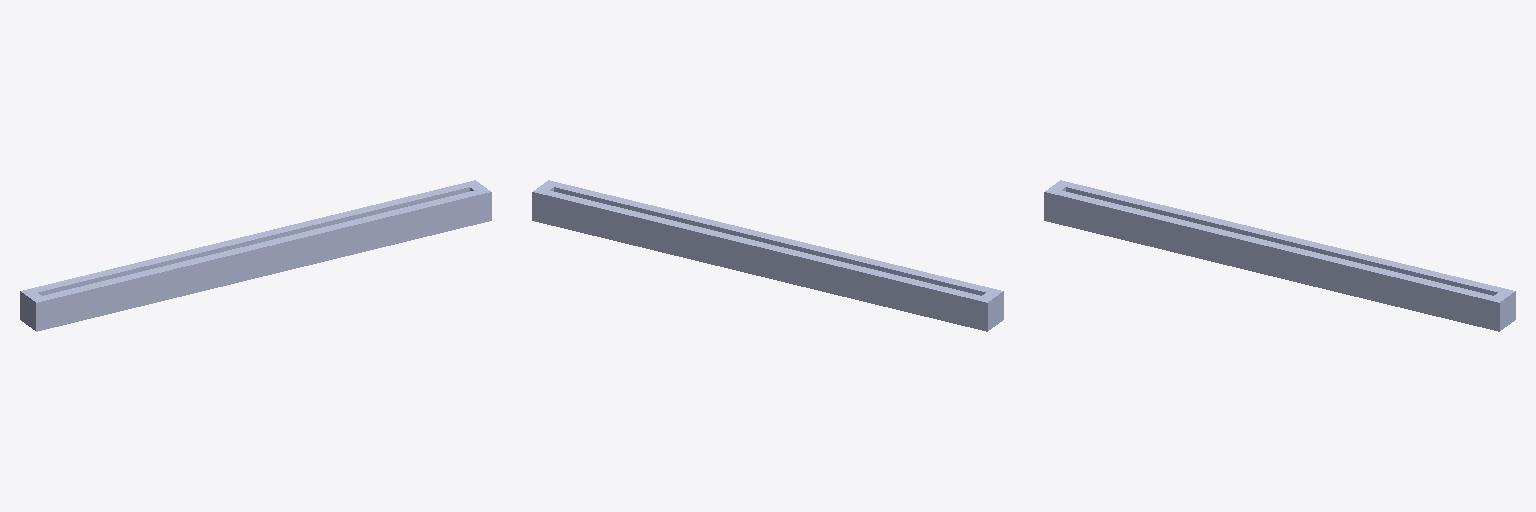
The robot description file, URDF, robot "gantry":
<?xml version="1.0" encoding="utf-8"?>
<!-- This URDF was automatically created by SolidWorks to URDF Exporter! Originally created by [author] ([email redacted]) 
     Commit Version: 1.6.0-4-g7f85cfe  Build Version: 1.6.7995.38578
     For more information, please see http://wiki.ros.org/sw_urdf_exporter -->
<robot
  name="gantry">
  <link
    name="structure">
    <inertial>
      <origin
        xyz="4.0294 4.6921 1.1281"
        rpy="0 0 0" />
      <mass
        value="12293" />
      <inertia
        ixx="64316"
        ixy="4.0607E-12"
        ixz="7.965E-13"
        iyy="45881"
        iyz="0.0025005"
        izz="107060" />
    </inertial>
    <visual>
      <origin
        xyz="0 0 0"
        rpy="0 0 0" />
      <geometry>
        <mesh
          filename="package://gantry/meshes/structure.STL" />
      </geometry>
      <material
        name="">
        <color
          rgba="0.75294 0.75294 0.75294 1" />
      </material>
    </visual>
    <collision>
      <origin
        xyz="0 0 0"
        rpy="0 0 0" />
      <geometry>
        <mesh
          filename="package://gantry/meshes/structure.STL" />
      </geometry>
    </collision>
  </link>
  <link
    name="Y_Rail">
    <inertial>
      <origin
        xyz="2.8379 4.8406 0.17153"
        rpy="0 0 0" />
      <mass
        value="740.03" />
      <inertia
        ixx="17.062"
        ixy="-1.757E-09"
        ixz="-0.002039"
        iyy="2278.6"
        iyz="1.079E-06"
        izz="2279.9" />
    </inertial>
    <visual>
      <origin
        xyz="0 0 0"
        rpy="0 0 0" />
      <geometry>
        <mesh
          filename="package://gantry/meshes/Y_Rail.STL" />
      </geometry>
      <material
        name="">
        <color
          rgba="0.79216 0.81961 0.93333 1" />
      </material>
    </visual>
    <collision>
      <origin
        xyz="0 0 0"
        rpy="0 0 0" />
      <geometry>
        <mesh
          filename="package://gantry/meshes/Y_Rail.STL" />
      </geometry>
    </collision>
  </link>
  <joint
    name="Y_Base"
    type="prismatic">
    <origin
      xyz="1.1619 1.2076 3.7013"
      rpy="0 0 0" />
    <parent
      link="structure" />
    <child
      link="Y_Rail" />
    <axis
      xyz="0 -1 0" />
    <limit
      lower="0"
      upper="0"
      effort="0"
      velocity="0" />
  </joint>
  <link
    name="X_Rail">
    <inertial>
      <origin
        xyz="3.7845 2.5E-05 -0.6159"
        rpy="0 0 0" />
      <mass
        value="595.91" />
      <inertia
        ixx="213.05"
        ixy="-1.8367E-15"
        ixz="-4.5834E-15"
        iyy="226.29"
        iyz="2.4056E-15"
        izz="40.6" />
    </inertial>
    <visual>
      <origin
        xyz="0 0 0"
        rpy="0 0 0" />
      <geometry>
        <mesh
          filename="package://gantry/meshes/X_Rail.STL" />
      </geometry>
      <material
        name="">
        <color
          rgba="0.79216 0.81961 0.93333 1" />
      </material>
    </visual>
    <collision>
      <origin
        xyz="0 0 0"
        rpy="0 0 0" />
      <geometry>
        <mesh
          filename="package://gantry/meshes/X_Rail.STL" />
      </geometry>
    </collision>
  </link>
  <joint
    name="X_Base"
    type="prismatic">
    <origin
      xyz="-0.03085 4.8406 0.368"
      rpy="0 0 0" />
    <parent
      link="Y_Rail" />
    <child
      link="X_Rail" />
    <axis
      xyz="-1 0 0" />
    <limit
      lower="0"
      upper="0"
      effort="0"
      velocity="0" />
  </joint>
</robot>

--- What the picture shows (computed from the rendered views, not written in the file) ---
Views: 3 orthographic renders of the robot side by side, from view 1: azimuth 30°, elevation 25°; view 2: azimuth 150°, elevation 25°; view 3: azimuth 330°, elevation 25°.
Robot: gantry — 3 links, 2 joints (2 prismatic); root link structure; default pose: every joint at zero.
Visible links, largest first — view 1: Y_Rail; view 2: Y_Rail; view 3: Y_Rail.
Link boxes in pixels (<box>): Y_Rail: <box>20,180,491,331</box>; Y_Rail: <box>532,180,1003,331</box>; Y_Rail: <box>1044,180,1515,331</box>.
Size in the robot's own frame: 6.04 by 0.368 by 0.368 metres.
1 mesh visuals loaded from 3 distinct referenced files (1 binary STL); not drawn: 2 (reference not matched to a file when rendering).